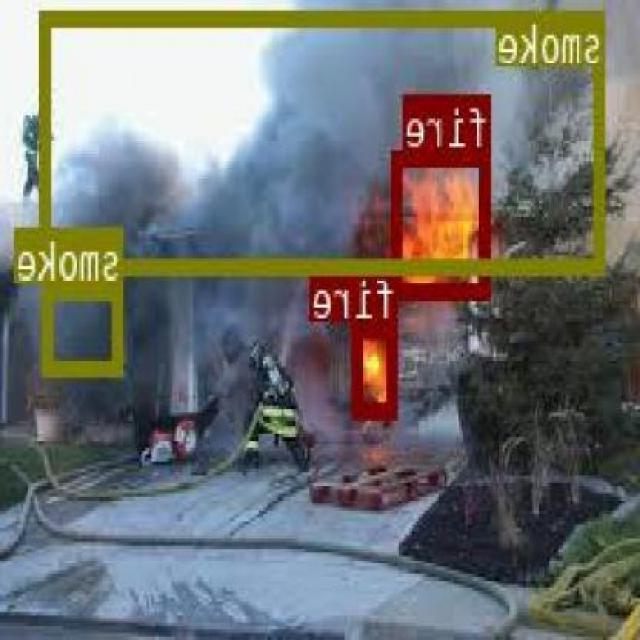Fire: (394, 148, 492, 297), (354, 319, 400, 413)
Smoke: (42, 8, 607, 270), (45, 282, 126, 371)
